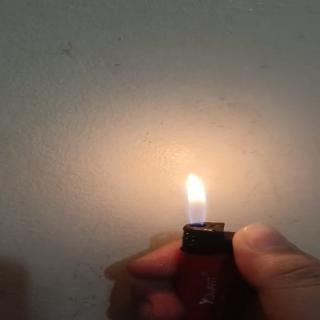fire: (163, 167, 223, 230)
